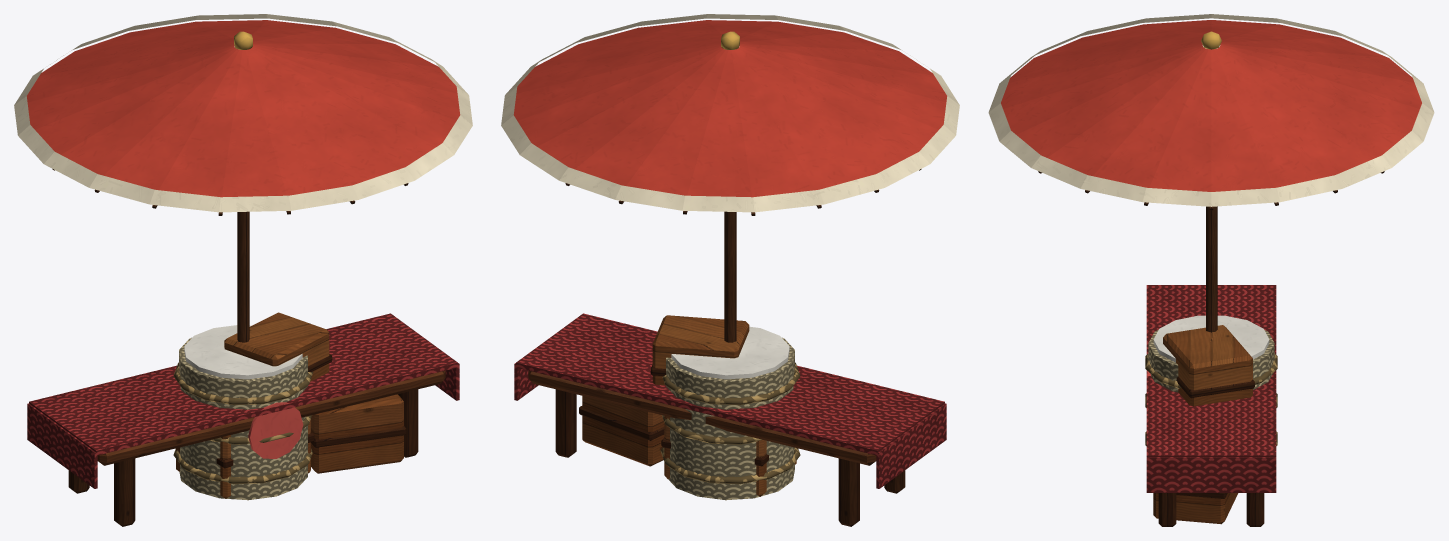
The model's file is env_clutter.glb.
3 views of the same model, side by side, from view 1: azimuth 30°, elevation 25°; view 2: azimuth 150°, elevation 25°; view 3: azimuth 270°, elevation 25° (orthographic). The views are drawn at different scales.
Parts seen in each view (by area): view 1: clutter_wagasa, clutter_bench, clutter_barrel, clutter_crates; view 2: clutter_wagasa, clutter_bench, clutter_barrel, clutter_crates; view 3: clutter_wagasa, clutter_bench, clutter_crates, clutter_barrel.
Boxes of the visible parts, x1,y1,x2,y2 form: clutter_wagasa: [14, 14, 472, 342]; clutter_bench: [27, 313, 459, 526]; clutter_barrel: [173, 325, 313, 500]; clutter_crates: [176, 312, 406, 498]; clutter_wagasa: [501, 14, 959, 342]; clutter_bench: [514, 313, 946, 526]; clutter_barrel: [660, 326, 800, 500]; clutter_crates: [579, 315, 796, 496]; clutter_wagasa: [988, 14, 1434, 332]; clutter_bench: [1146, 285, 1276, 526]; clutter_crates: [1153, 325, 1254, 524]; clutter_barrel: [1145, 315, 1277, 445].
Size of the model in its own units: 2.54 by 2.68 by 2.54.
Materials: 3 (3 with a texture image).
